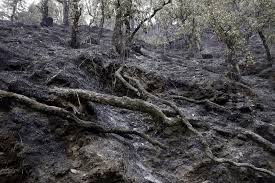smoke: (30, 31, 67, 67)
